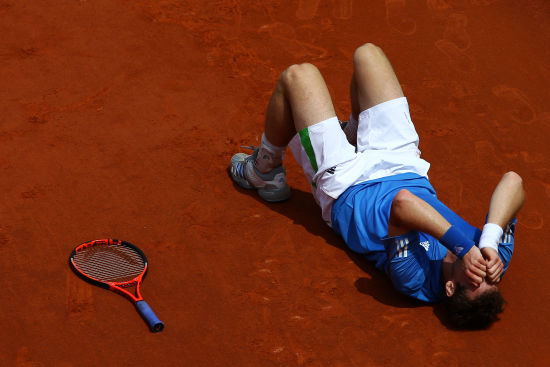down: (220, 41, 529, 327)
